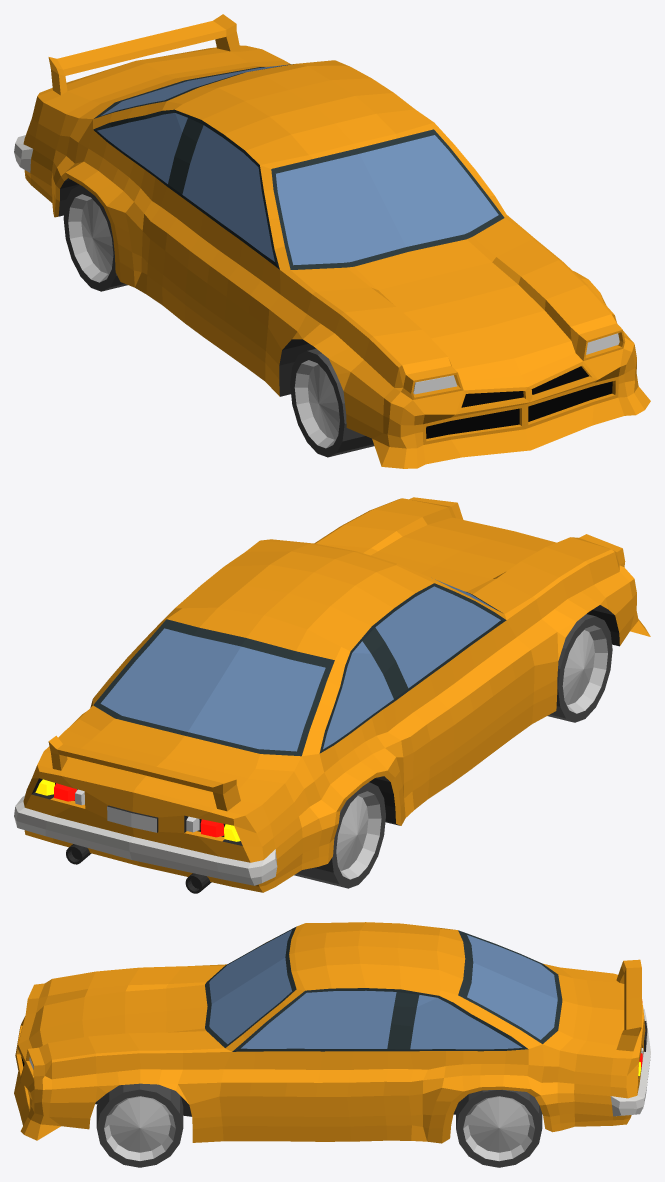
File: car1.fbx
3 renders of one model, top to bottom at view 1: azimuth 30°, elevation 25°; view 2: azimuth 150°, elevation 25°; view 3: azimuth 270°, elevation 25°, orthographic. The views are drawn at different scales.
Visible parts, largest first — view 1: Car, wheel_fr, wheel_br; view 2: Car, wheel_fr, wheel_br; view 3: Car, wheel_fl, wheel_bl.
Part boxes in pixels (left/top/right/bottom): Car: left=14, top=14, right=650, bottom=468; wheel_fr: left=290, top=348, right=374, bottom=457; wheel_br: left=63, top=185, right=127, bottom=291; Car: left=14, top=497, right=650, bottom=893; wheel_fr: left=547, top=614, right=612, bottom=722; wheel_br: left=294, top=782, right=385, bottom=888; Car: left=14, top=922, right=650, bottom=1143; wheel_fl: left=96, top=1083, right=183, bottom=1167; wheel_bl: left=456, top=1089, right=542, bottom=1167.
Bounding box in the file's own units: 232 × 169 × 575.
